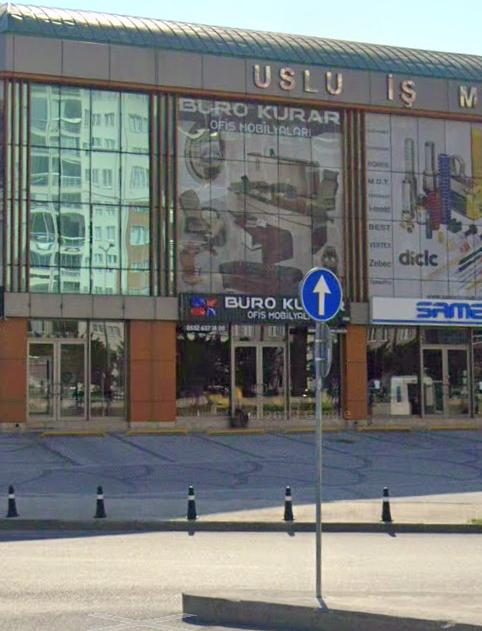forward: (303, 267, 340, 318)
